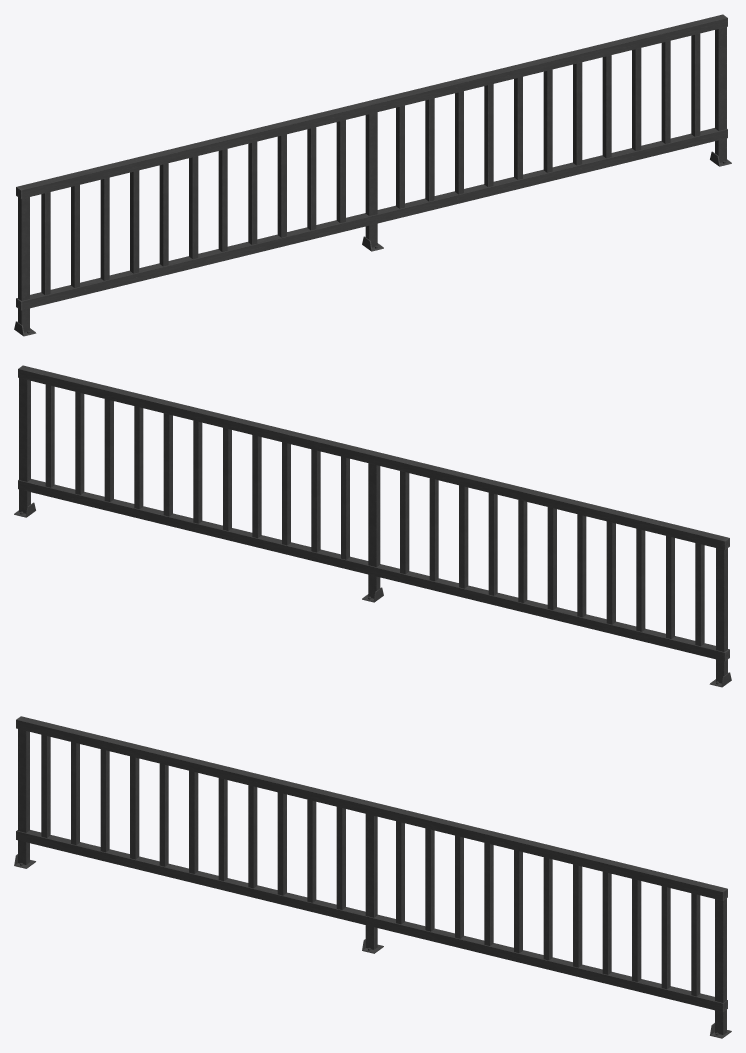
Rendered from fence.glb.
The picture shows the model from 3 angles, top to bottom: view 1: azimuth 30°, elevation 25°; view 2: azimuth 150°, elevation 25°; view 3: azimuth 330°, elevation 25°; orthographic projection.
Visible parts, largest first — view 1: garden fence panel; view 2: garden fence panel; view 3: garden fence panel.
Part boxes in pixels (box(x1,y1,x2,y2)): garden fence panel: box(14, 14, 731, 336); garden fence panel: box(14, 365, 731, 687); garden fence panel: box(14, 716, 731, 1038).
Bounding box in the file's own units: 12.22 × 2.38 × 0.2917.
1 material, 1 textured.
